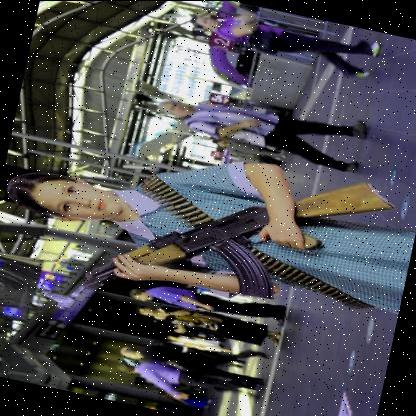rifle: (63, 120, 406, 361)
